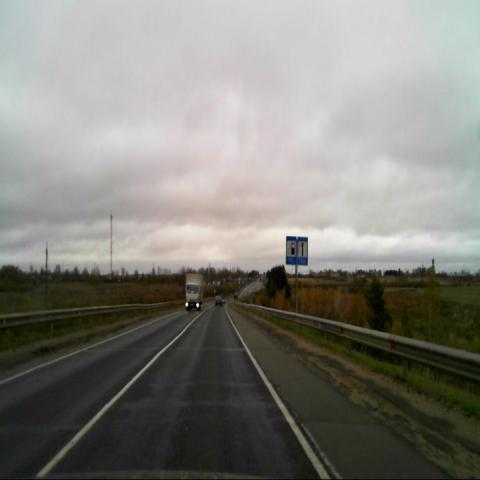7_3: (285, 235, 298, 265)
7_4: (295, 233, 308, 266)
